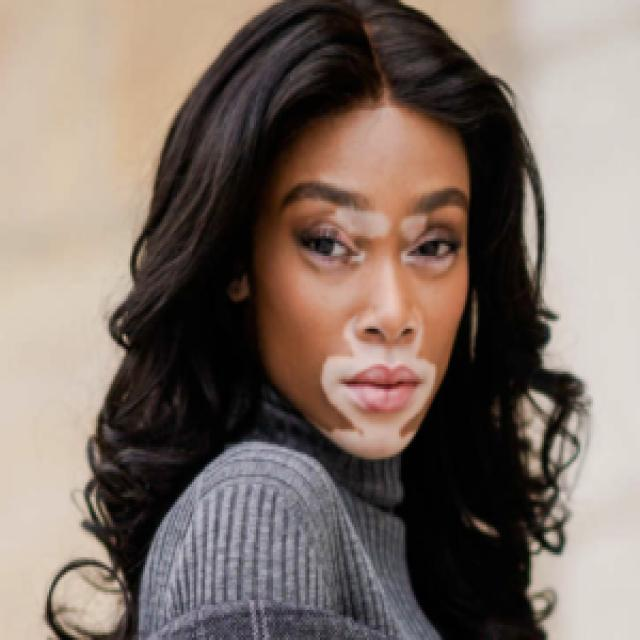vitiligo: (312, 186, 446, 449)
